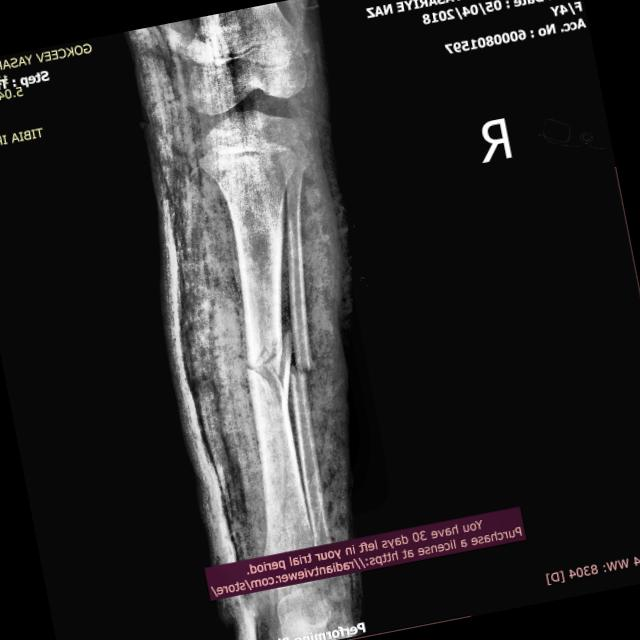Fracture: (237, 326, 306, 401), (286, 352, 322, 382)
